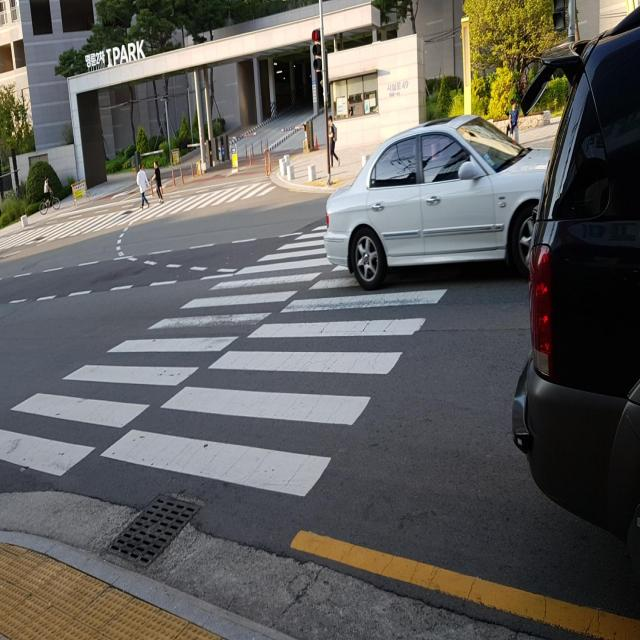횡단보도: (0, 223, 448, 499), (0, 182, 279, 249)
